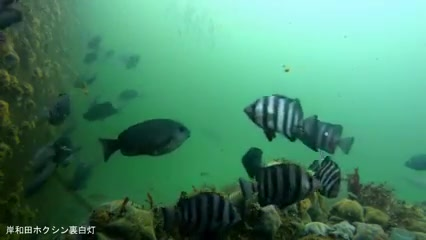gure: (97, 114, 199, 161)
ishidai: (241, 93, 309, 142), (161, 192, 243, 230), (255, 166, 311, 205), (317, 155, 342, 197), (315, 119, 343, 154)
